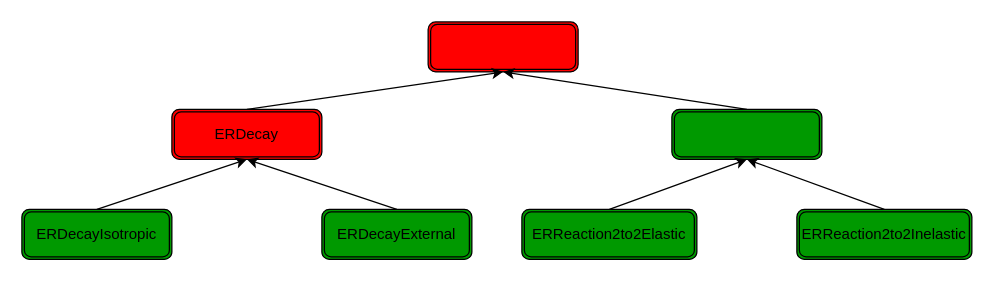
Image size: 994x281. Some labels were removed from this diagram. Here are the shapes that lost their labels. From the top down, the centre of each, then its label:
At [502,46]: "ERInteraction".
At [746,133]: "ERReaction2to2".
